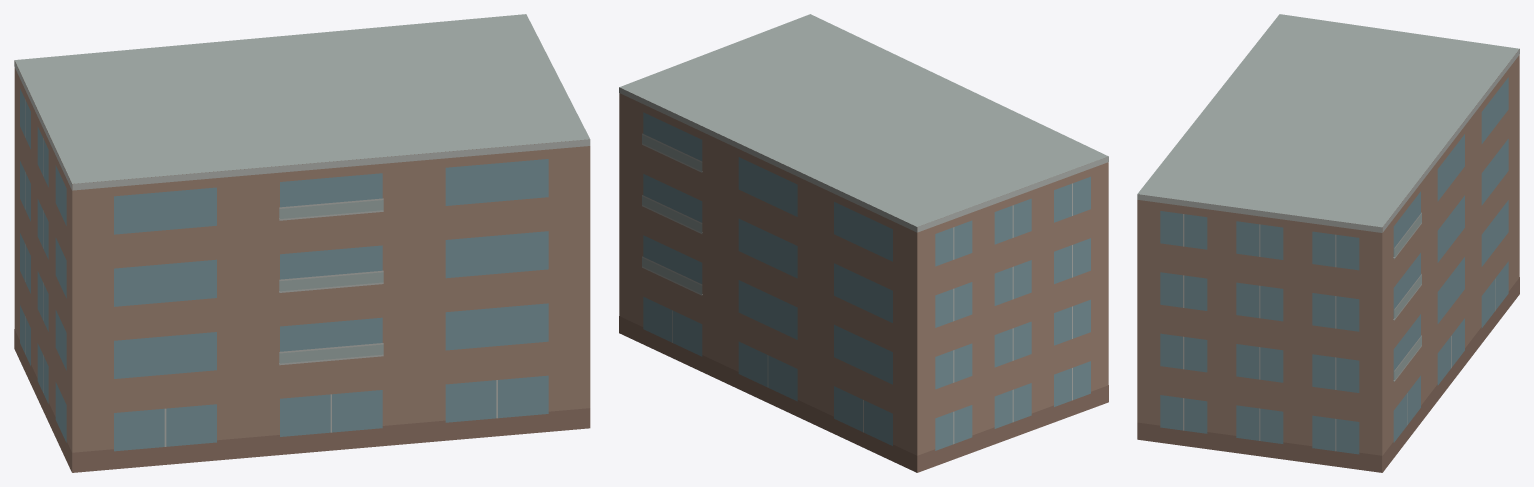
File: survey-upis-32529482.glb
3 views of the same model, side by side, from view 1: azimuth 30°, elevation 25°; view 2: azimuth 150°, elevation 25°; view 3: azimuth 270°, elevation 25° (orthographic). The views are drawn at different scales.
Visible parts, largest first — view 1: survey-upis-32529482.tmp; view 2: survey-upis-32529482.tmp; view 3: survey-upis-32529482.tmp.
Boxes of the visible parts, x1,y1,x2,y2 form: survey-upis-32529482.tmp: [14, 14, 590, 472]; survey-upis-32529482.tmp: [619, 14, 1108, 472]; survey-upis-32529482.tmp: [1137, 14, 1519, 472].
Size of the model in its own units: 19.77 by 10.6 by 14.98.
